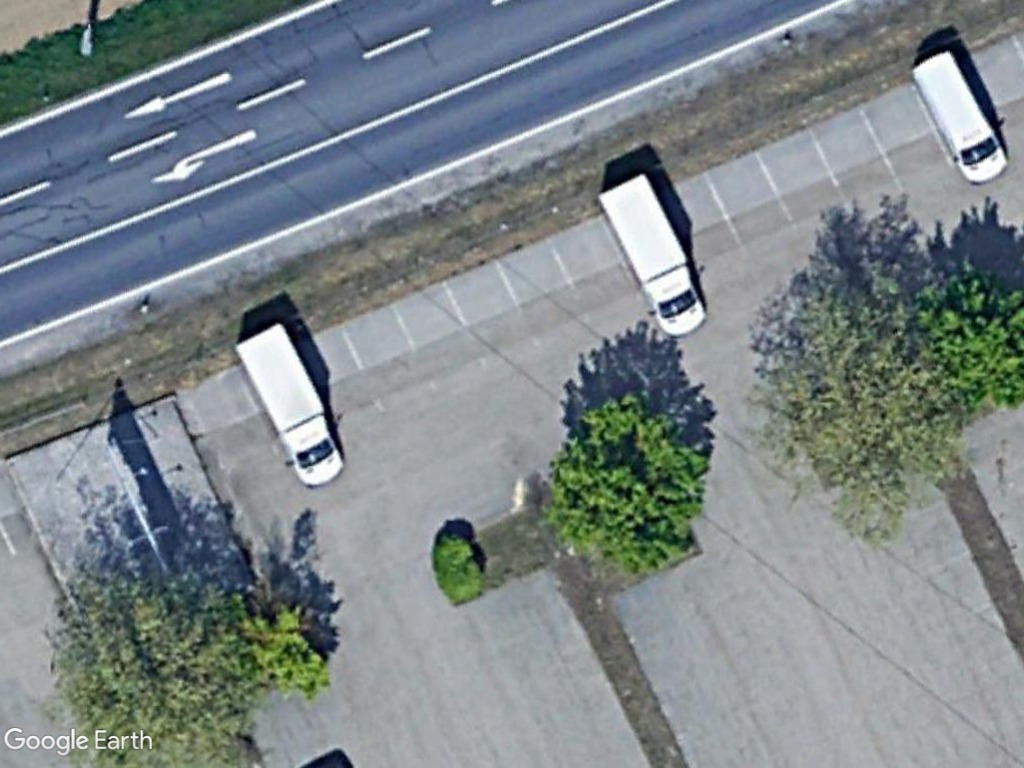truck: (592, 171, 712, 344), (232, 319, 349, 494)
van: (910, 49, 1009, 187)
